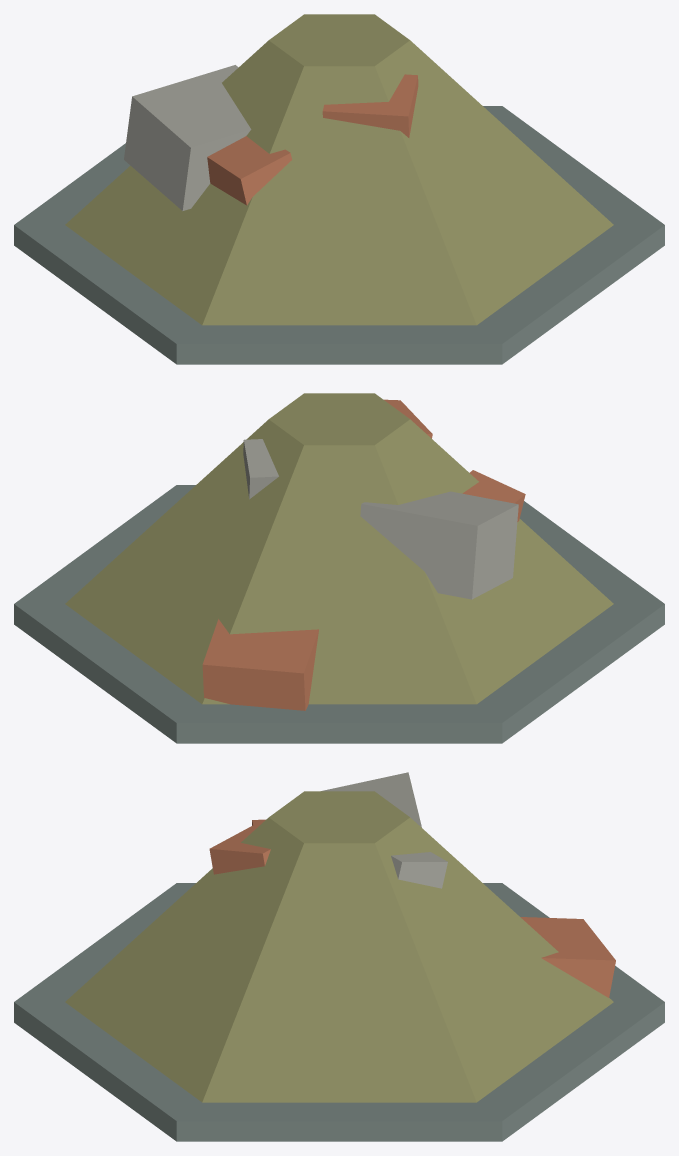
File: SM_MontonEscombro_v1_Ladrillo_LOD1.fbx
3 renders of one model, top to bottom at view 1: azimuth 30°, elevation 25°; view 2: azimuth 150°, elevation 25°; view 3: azimuth 270°, elevation 25°, orthographic.
Parts seen in each view (by area): view 1: SM_monton_escombro_v1_LOD1; view 2: SM_monton_escombro_v1_LOD1; view 3: SM_monton_escombro_v1_LOD1.
Part boxes in pixels (x1,y1,x2,y2): SM_monton_escombro_v1_LOD1: (14, 14, 664, 364); SM_monton_escombro_v1_LOD1: (14, 393, 664, 743); SM_monton_escombro_v1_LOD1: (14, 772, 664, 1141).
Size of the model in its own units: 1.99 by 0.8 by 2.3.
